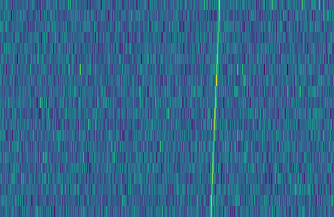signal: (207, 0, 224, 217)
